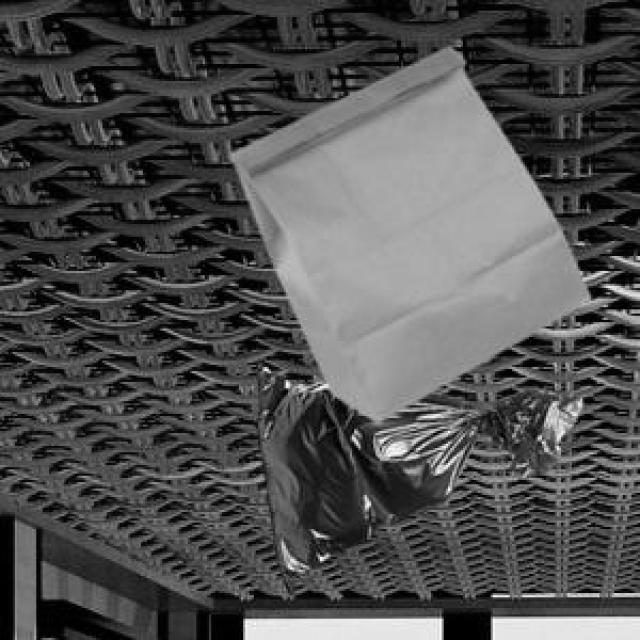miscellaneous trash: (254, 356, 578, 593)
paper: (228, 43, 587, 418)
